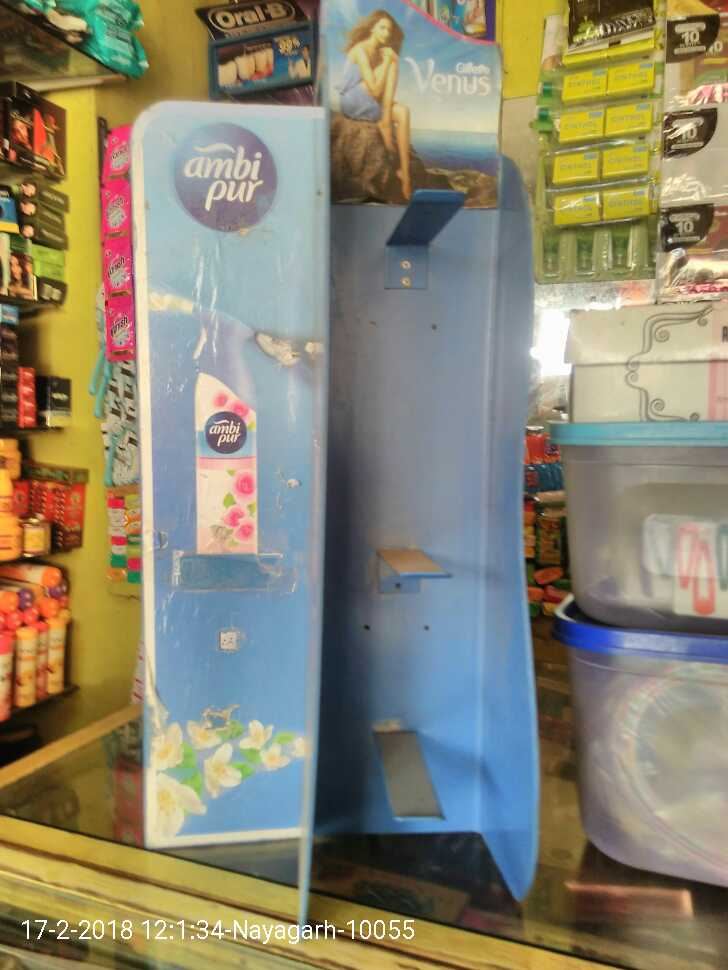reject: (115, 217, 284, 320)
